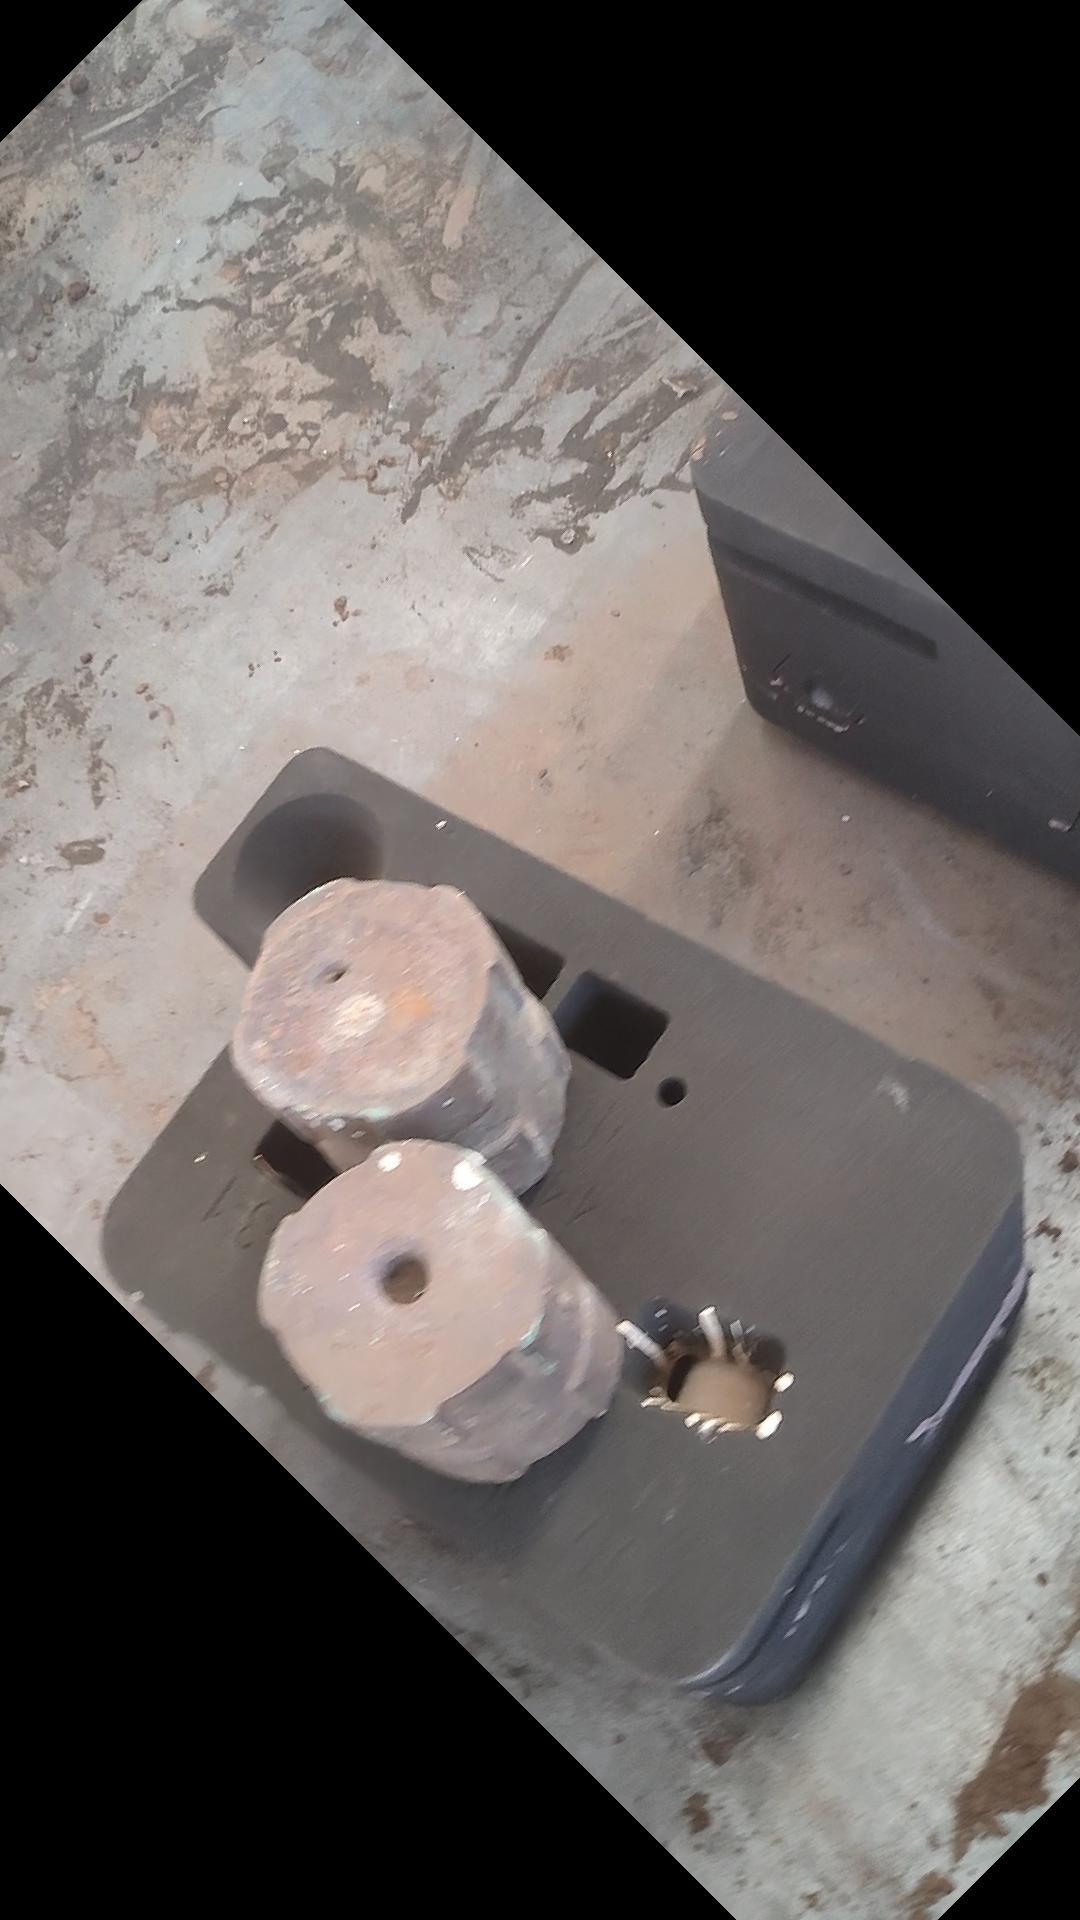pouring hole: (231, 790, 386, 940)
